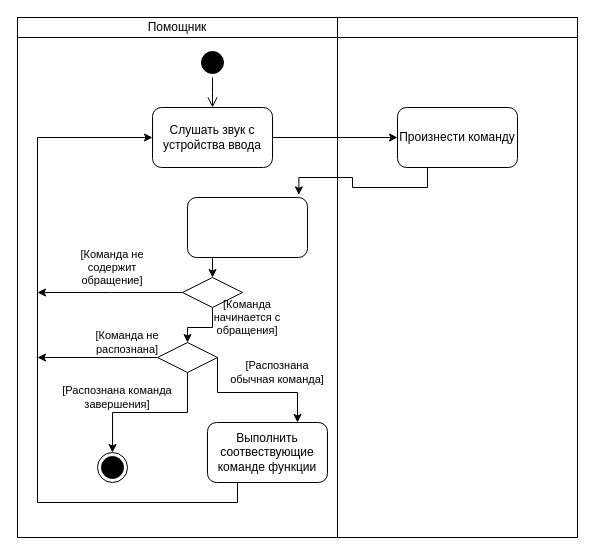
The diagram is 596 pixels wide and 556 high, and some of its shapes have lost their labels. The shapes that lost their labels are listed below. From the top down, each one's centre as x and y in pixels, then its label:
the point at 457,27: Пользователь
the point at 247,227: Распознать команду
